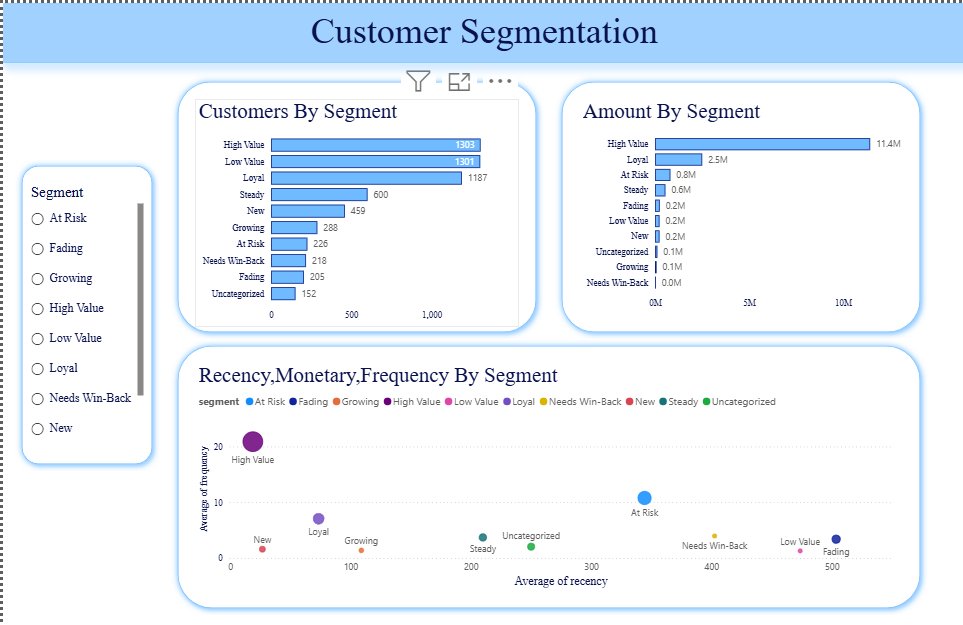

What the dashboard file says about the page in this screenshot:
{"tool":"powerbi","page":{"name":"Customer Segmentation(rfm)","canvas":[1282,831],"ordinal":1},"visuals":[{"type":"shape","box":[736,96,496,352],"z":0},{"type":"shape","box":[224,448,1008,368],"z":1000},{"type":"shape","box":[224,96,496,352],"z":2000},{"type":"shape","box":[16,208,192,416],"z":3000},{"type":"clusteredBarChart","title":"Customers By Segment","fields":{"Y":["CountNonNull(public rfm_scored.customer_id)"],"Category":["public rfm_scored.segment"]},"box":[256,128,432,304],"z":4000},{"type":"clusteredBarChart","title":"Amount By Segment","fields":{"Y":["Sum(public rfm_scored.monetary)"],"Category":["public rfm_scored.segment"]},"box":[768,128,448,288],"z":5000},{"type":"scatterChart","title":"Recency,Monetary,Frequency By Segment","fields":{"X":["Avg(public rfm_scored.recency)"],"Y":["Avg(public rfm_scored.frequency)"],"Series":["public rfm_scored.segment"],"Size":["Avg(public rfm_scored.monetary)"]},"box":[256,480,944,304],"z":6000},{"type":"listSlicer","title":"Segment","fields":{"Values":["public rfm_scored.segment"]},"box":[32,240,160,352],"z":7000},{"type":"textbox","box":[-9,0,1312,80],"z":8000}]}

Visuals, with their boxes in screenshot pixels (x1, y1, x2, y2), scaled from the page's 1282x831 canvas onto the 963x625 screenshot:
shape: [left=553, top=72, right=925, bottom=337]
shape: [left=168, top=337, right=925, bottom=614]
shape: [left=168, top=72, right=541, bottom=337]
shape: [left=12, top=156, right=156, bottom=469]
"Customers By Segment" clusteredBarChart: [left=192, top=96, right=517, bottom=325]
"Amount By Segment" clusteredBarChart: [left=577, top=96, right=913, bottom=313]
"Recency,Monetary,Frequency By Segment" scatterChart: [left=192, top=361, right=901, bottom=590]
"Segment" listSlicer: [left=24, top=181, right=144, bottom=445]
textbox: [left=0, top=0, right=962, bottom=60]
